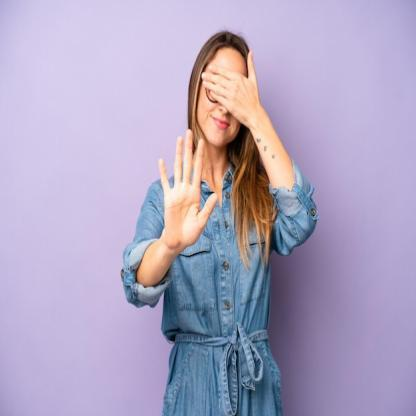stop: (156, 127, 220, 248)
